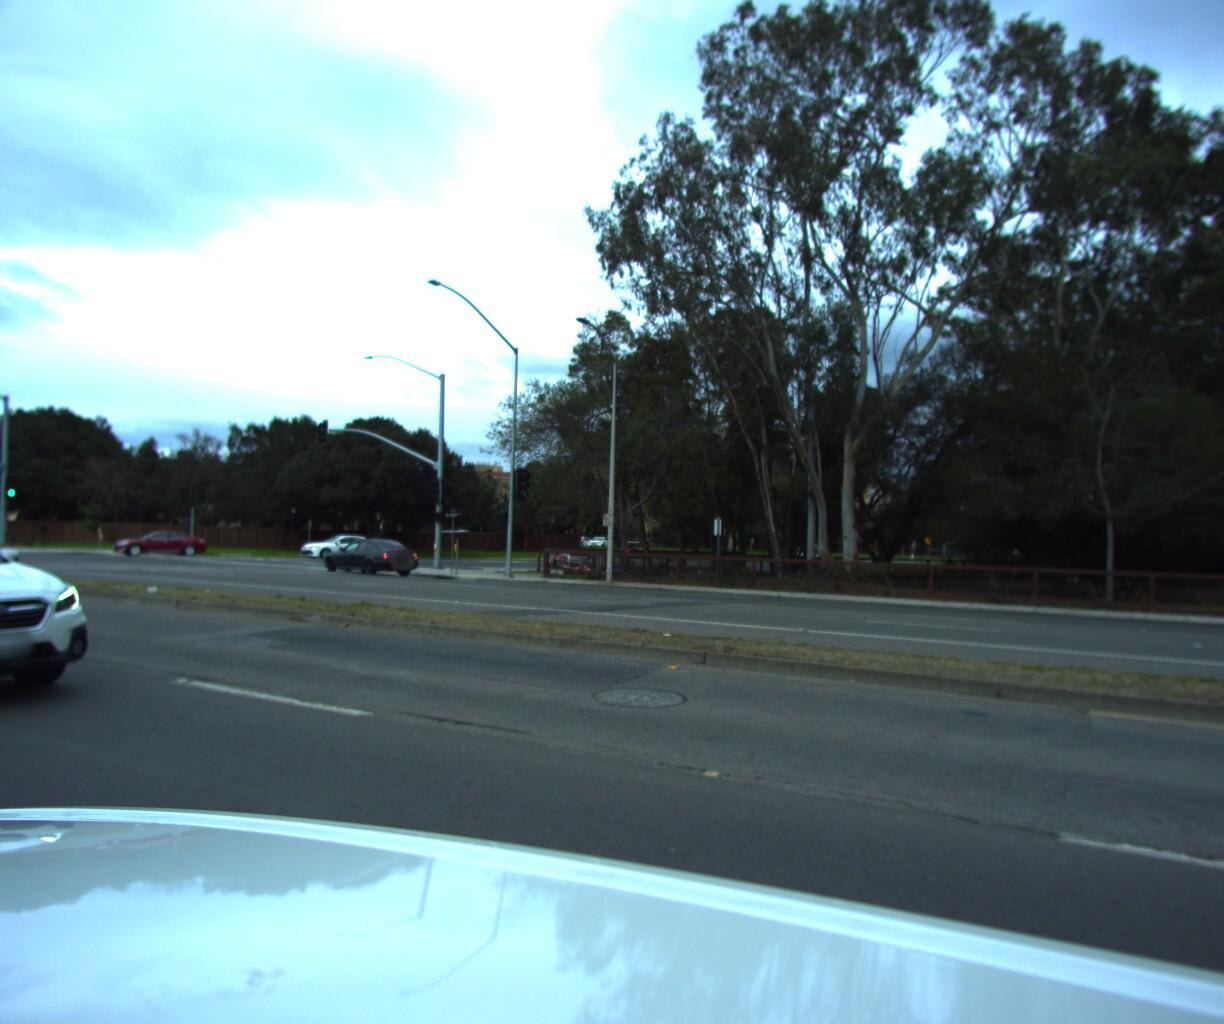car: (0, 492, 132, 760), (314, 530, 423, 571), (109, 522, 209, 551), (293, 528, 385, 555)
